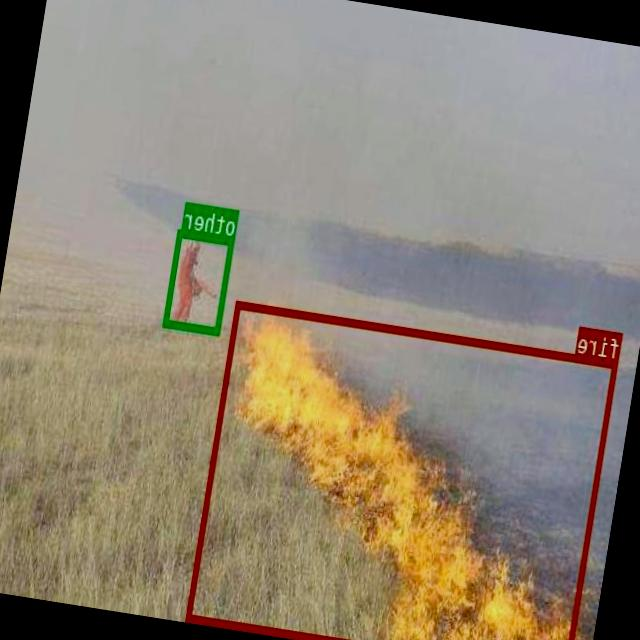fire: (187, 300, 620, 640)
